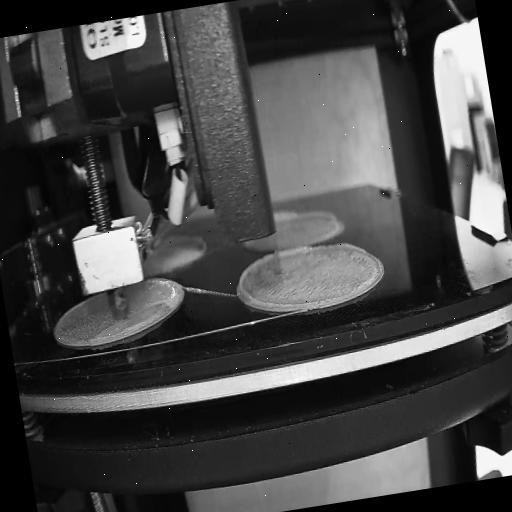over_extrusion: (230, 244, 324, 316), (272, 200, 340, 231), (330, 236, 366, 258)
